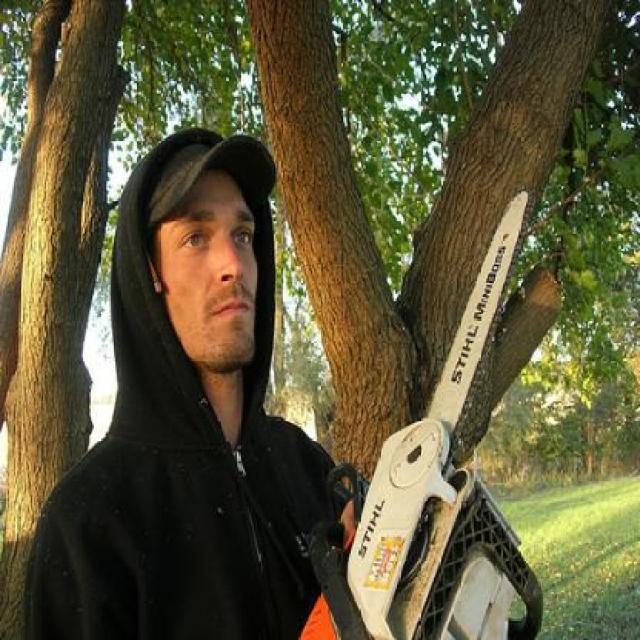Chainsaw: (298, 192, 544, 638)
